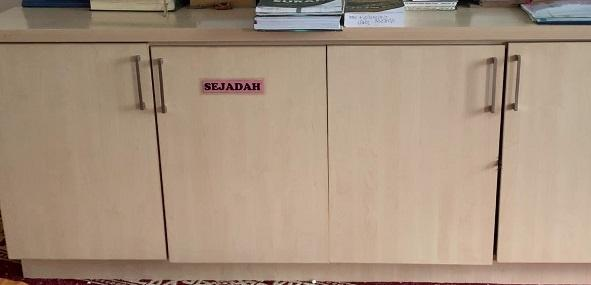cabinet_door: (327, 44, 498, 264), (159, 43, 327, 262), (0, 44, 158, 261), (495, 43, 591, 264)
handle: (154, 58, 169, 113), (132, 55, 146, 112), (511, 54, 525, 111), (487, 56, 500, 114)
